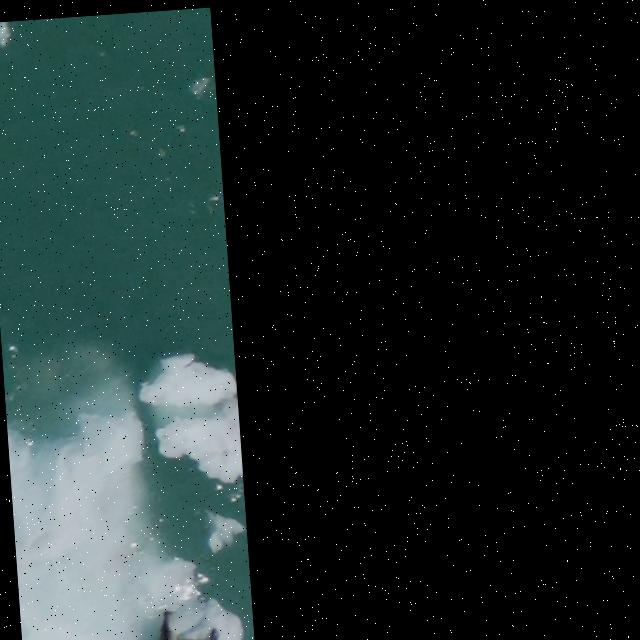seal: (157, 609, 177, 640), (177, 626, 220, 640)
